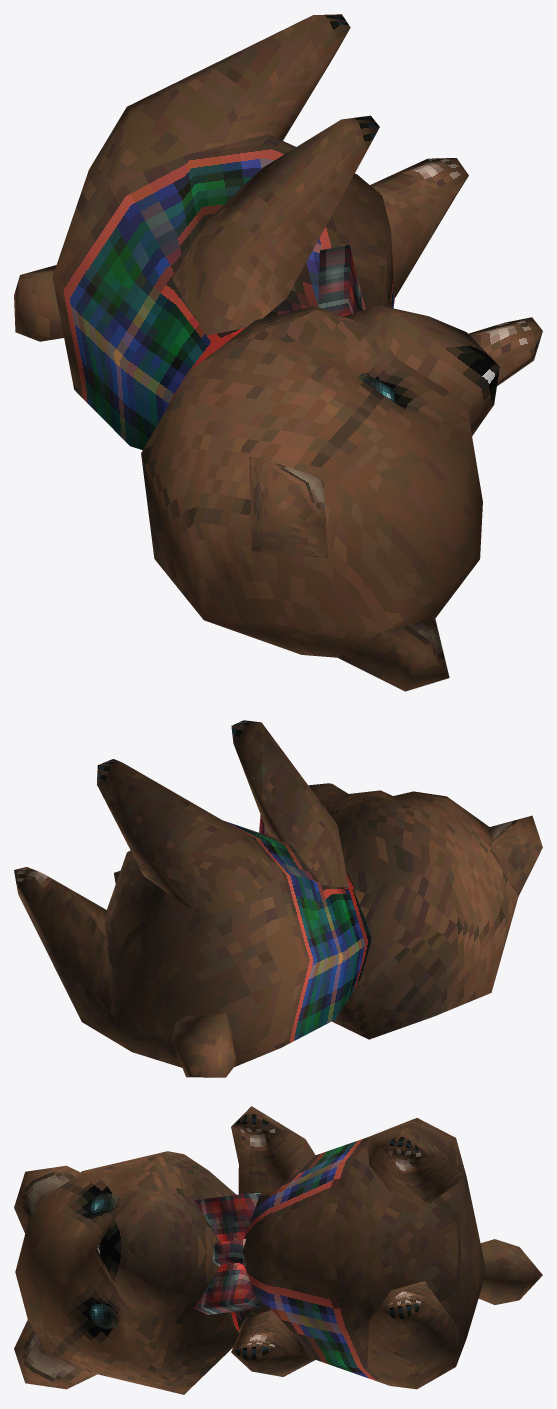
3 renders of one model, top to bottom at view 1: azimuth 30°, elevation 25°; view 2: azimuth 150°, elevation 25°; view 3: azimuth 270°, elevation 25°, orthographic. The views are drawn at different scales.
Parts seen in each view (by area): view 1: weapon/we112.pac; view 2: weapon/we112.pac; view 3: weapon/we112.pac.
Boxes of the visible parts, x1=… form: weapon/we112.pac: x1=14, y1=14, x2=542, y2=691; weapon/we112.pac: x1=14, y1=720, x2=542, y2=1077; weapon/we112.pac: x1=14, y1=1106, x2=542, y2=1394.
Size of the model in its own units: 101 by 90.74 by 142.
Materials: 1 (1 with a texture image).
